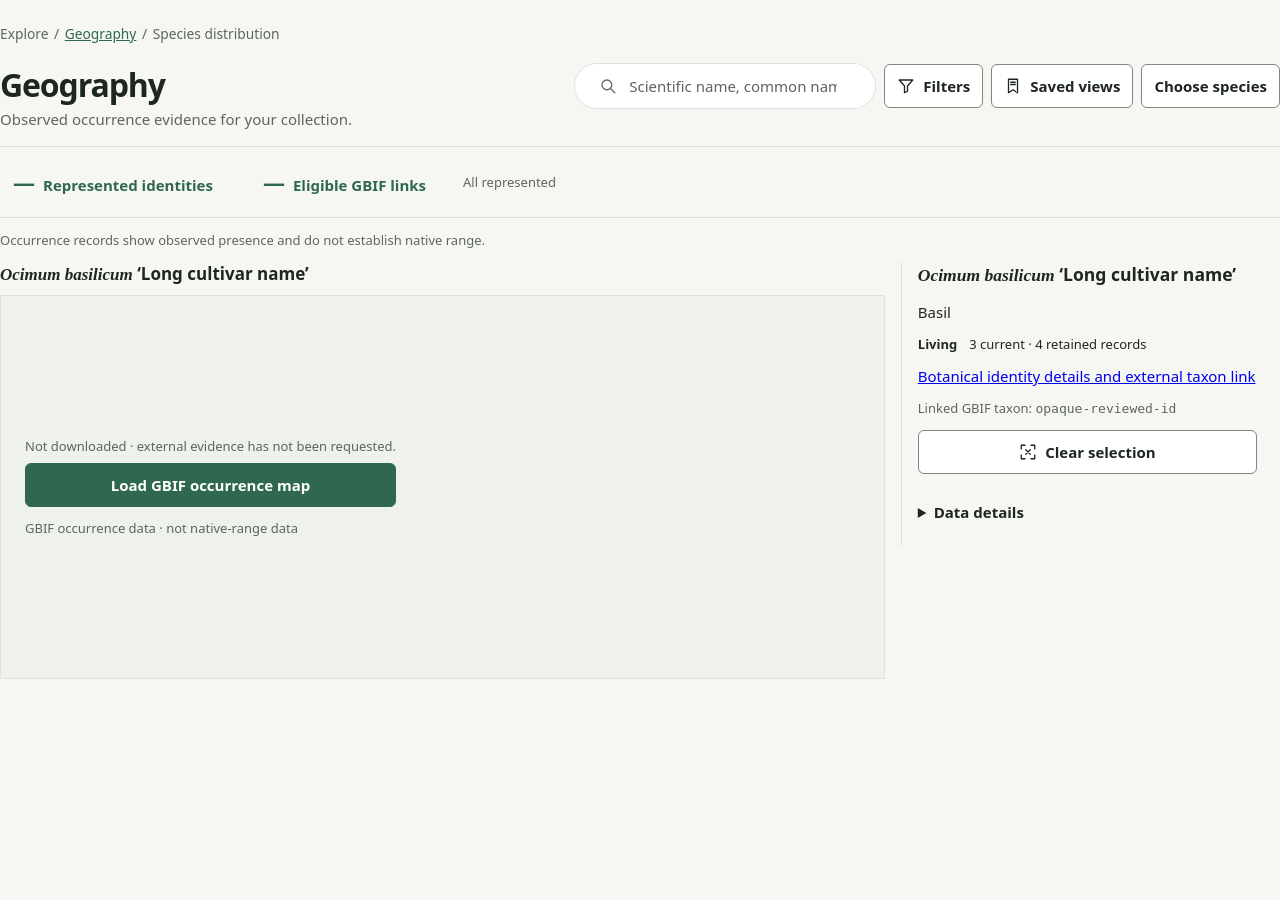
Test: provider failure/retry and zero eligible records keep the directory usable
Click the button "Load GBIF occurrence map".
click(210, 485)  # box [25, 463, 396, 507]
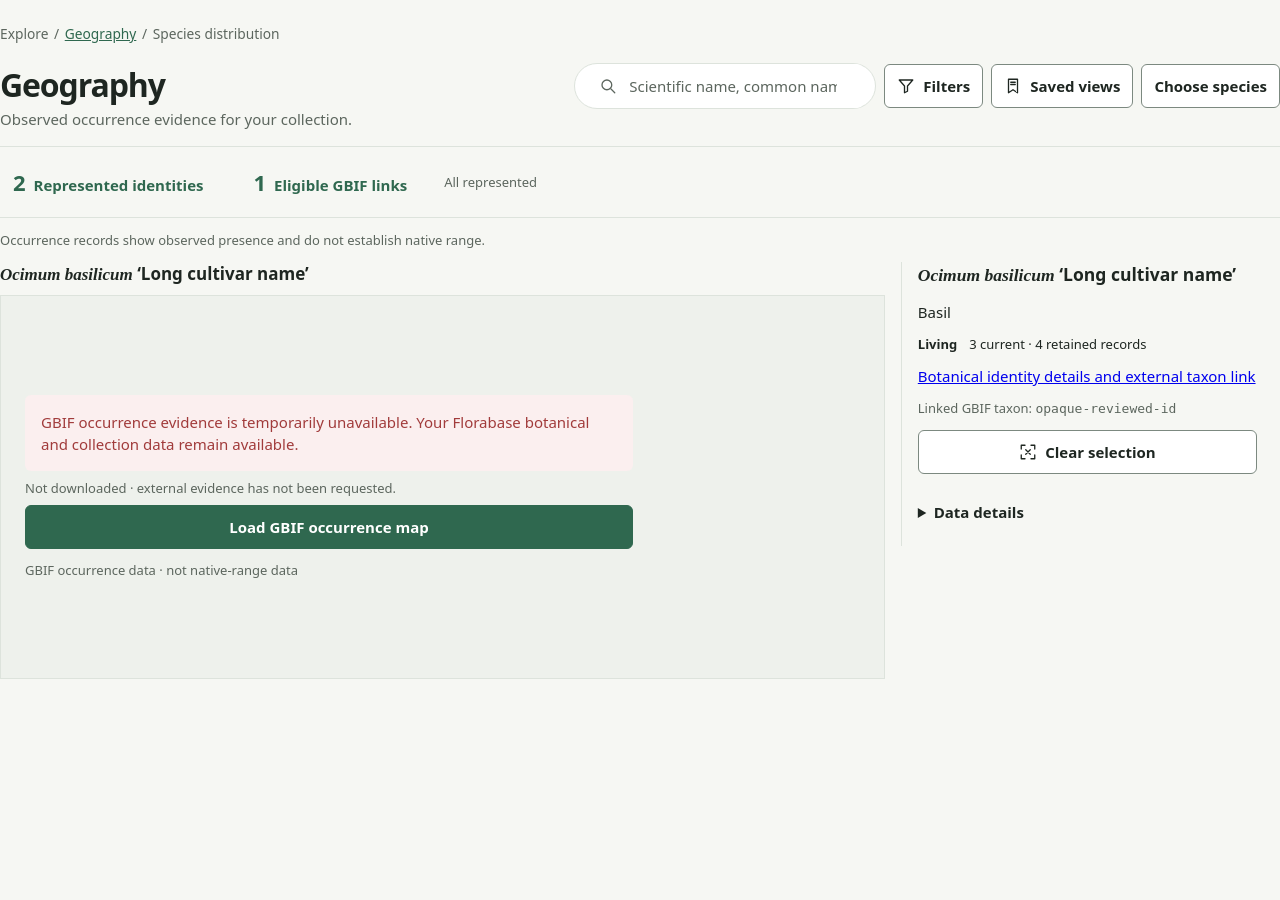
Check: the message shows "temporarily unavailable", box [41, 412, 590, 454]
Click the button "Choose species".
click(1211, 86)  # box [1141, 64, 1279, 108]
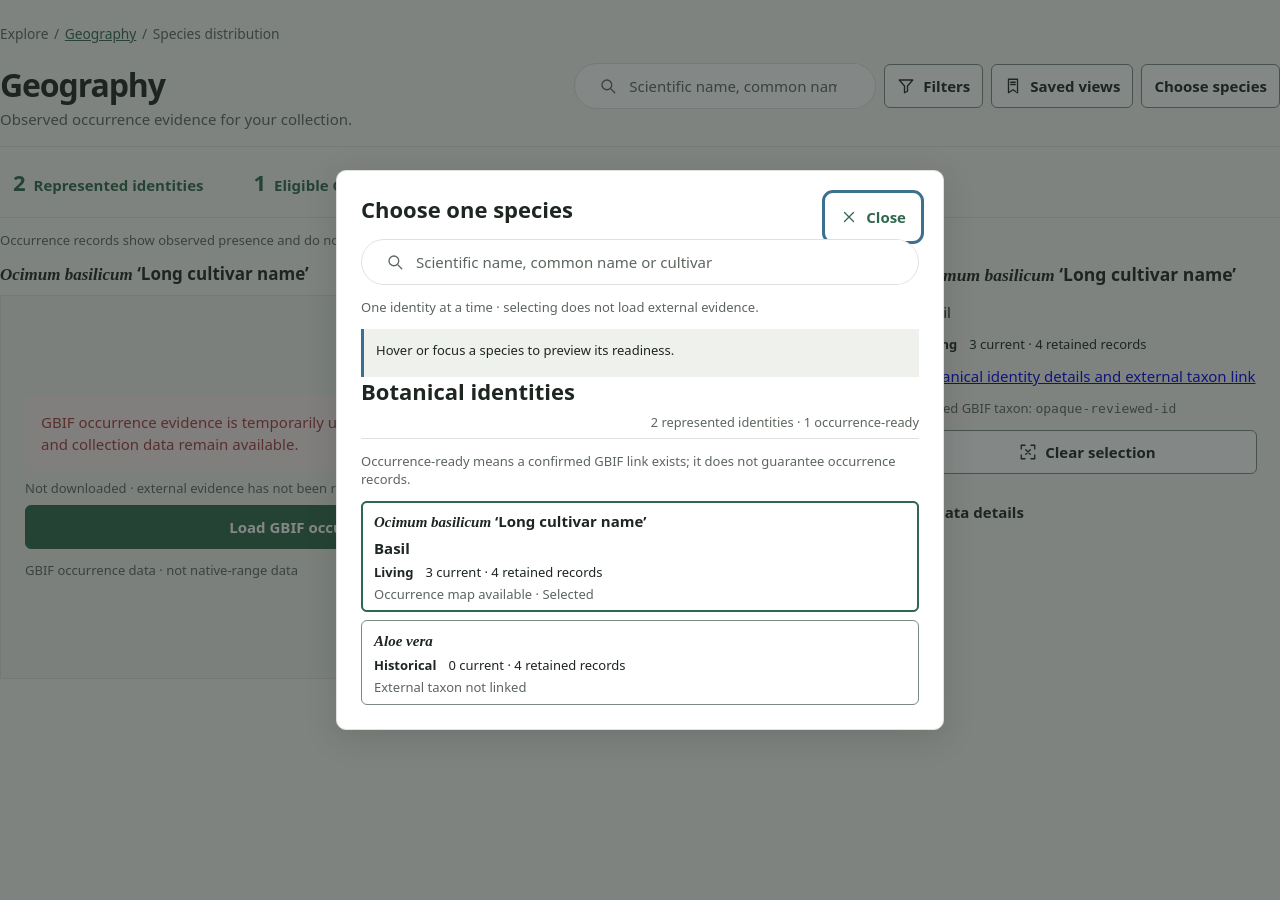
Check: the button "Aloe vera" is enabled, box [361, 620, 919, 705]
Click the button "Close".
click(873, 217)  # box [827, 195, 919, 239]
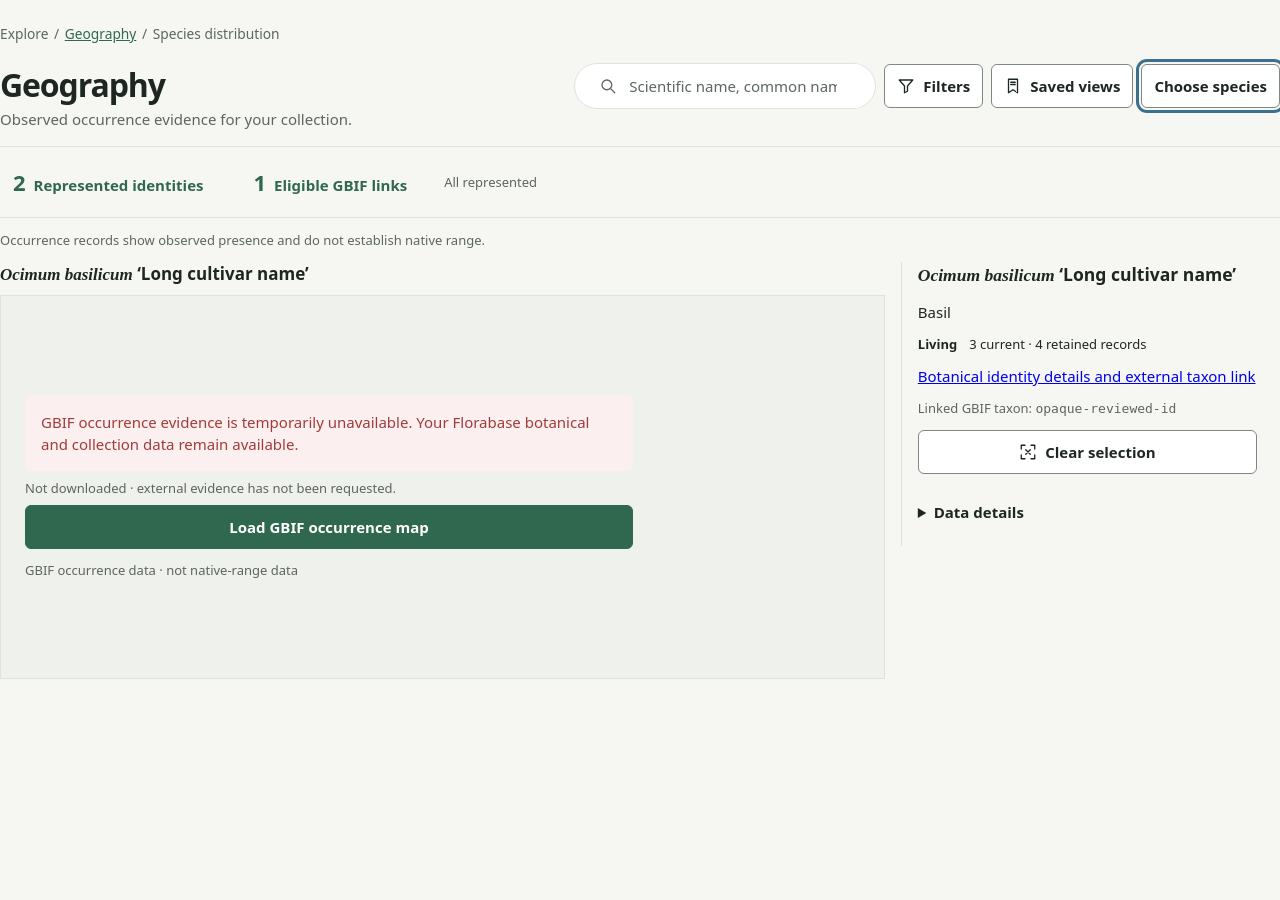
Click the button "Load GBIF occurrence map".
click(329, 527)  # box [25, 505, 633, 549]
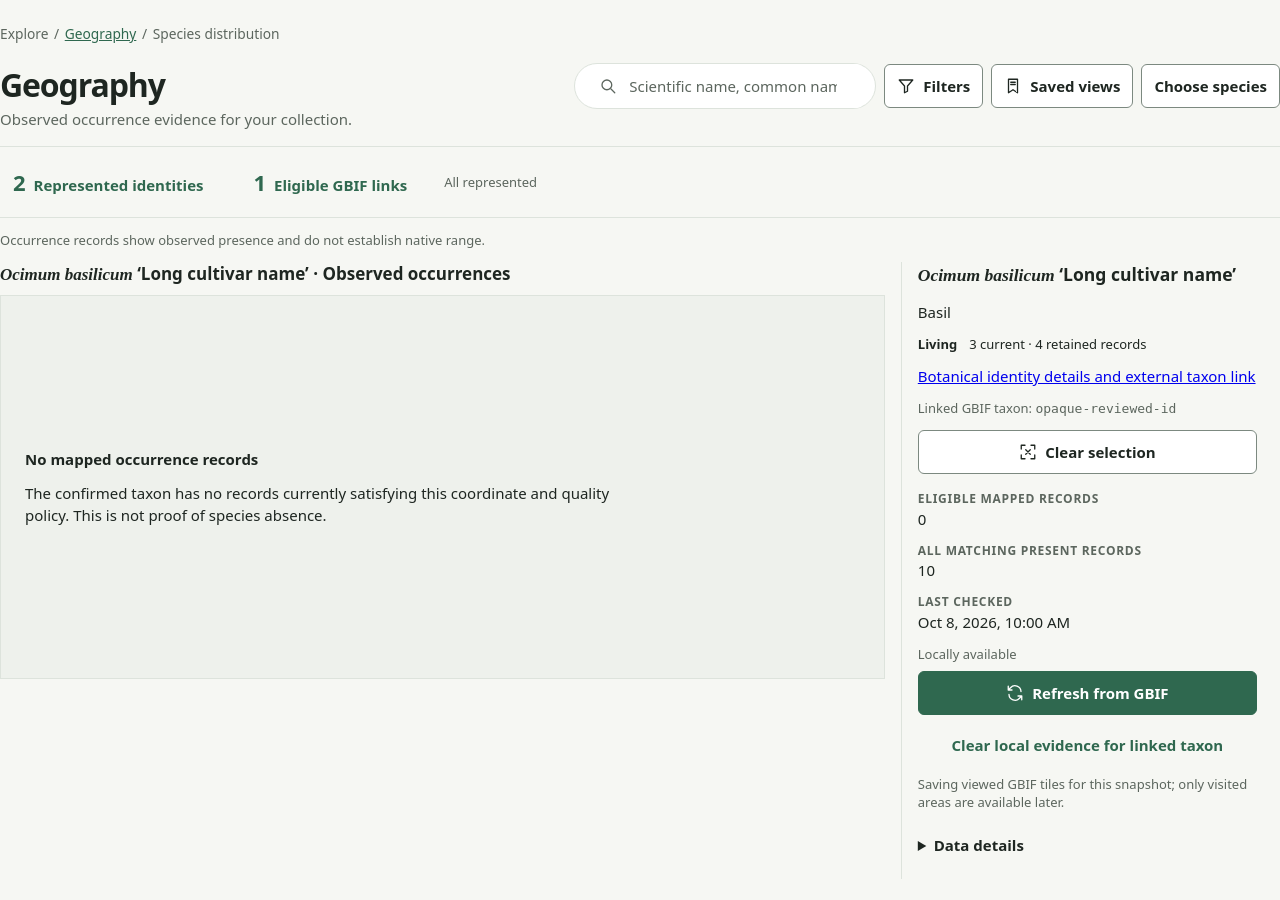
Check: the heading "No mapped occurrence records" is shown, box [25, 448, 258, 470]
